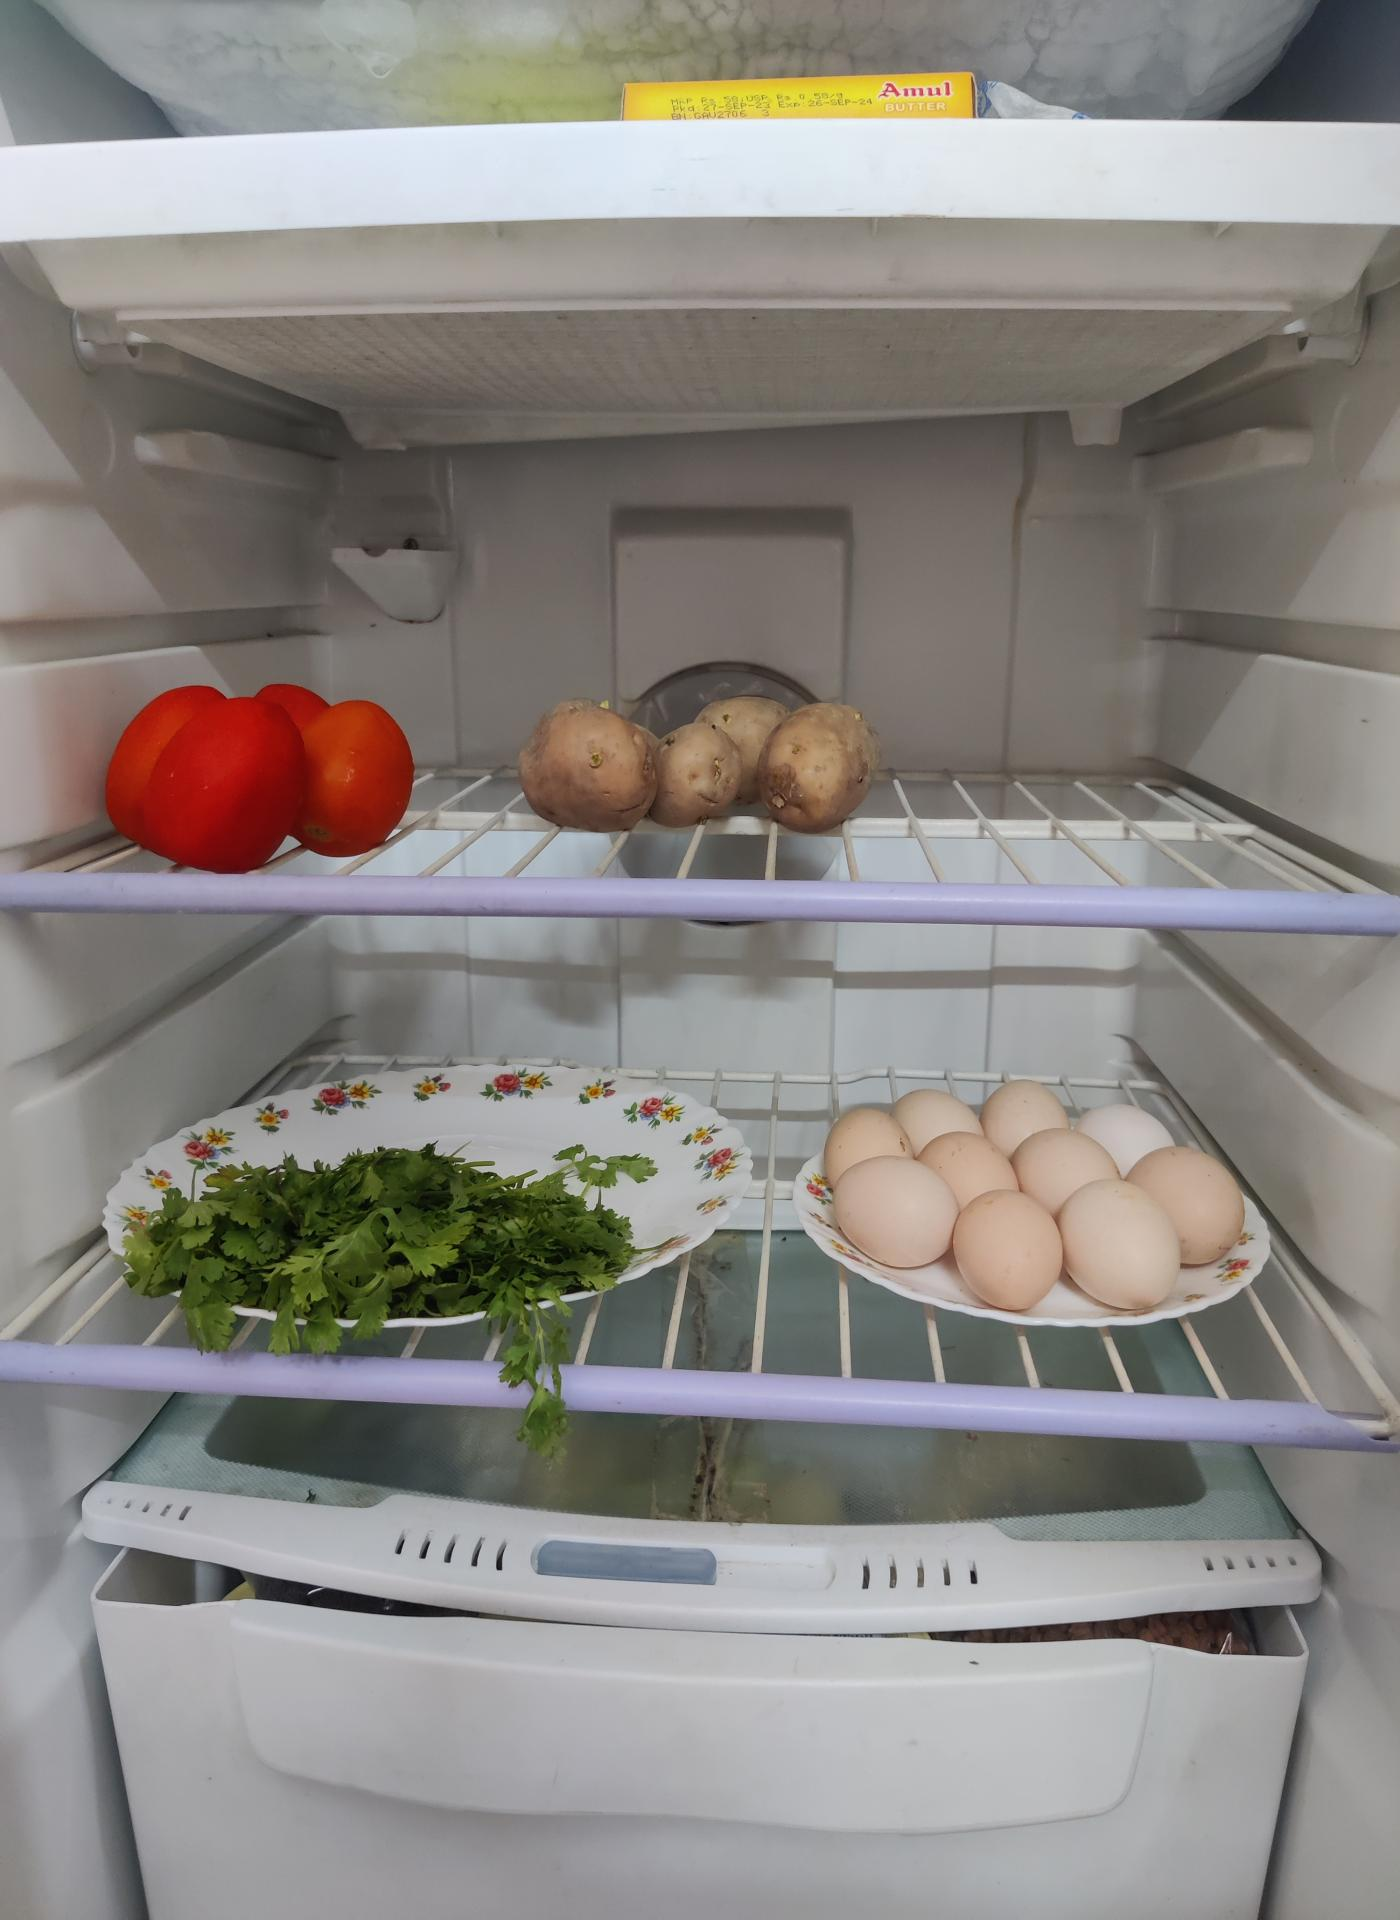coriander: (130, 1148, 644, 1352)
egg: (804, 1084, 1246, 1321)
potato: (528, 698, 883, 836)
tomato: (112, 674, 420, 863)
